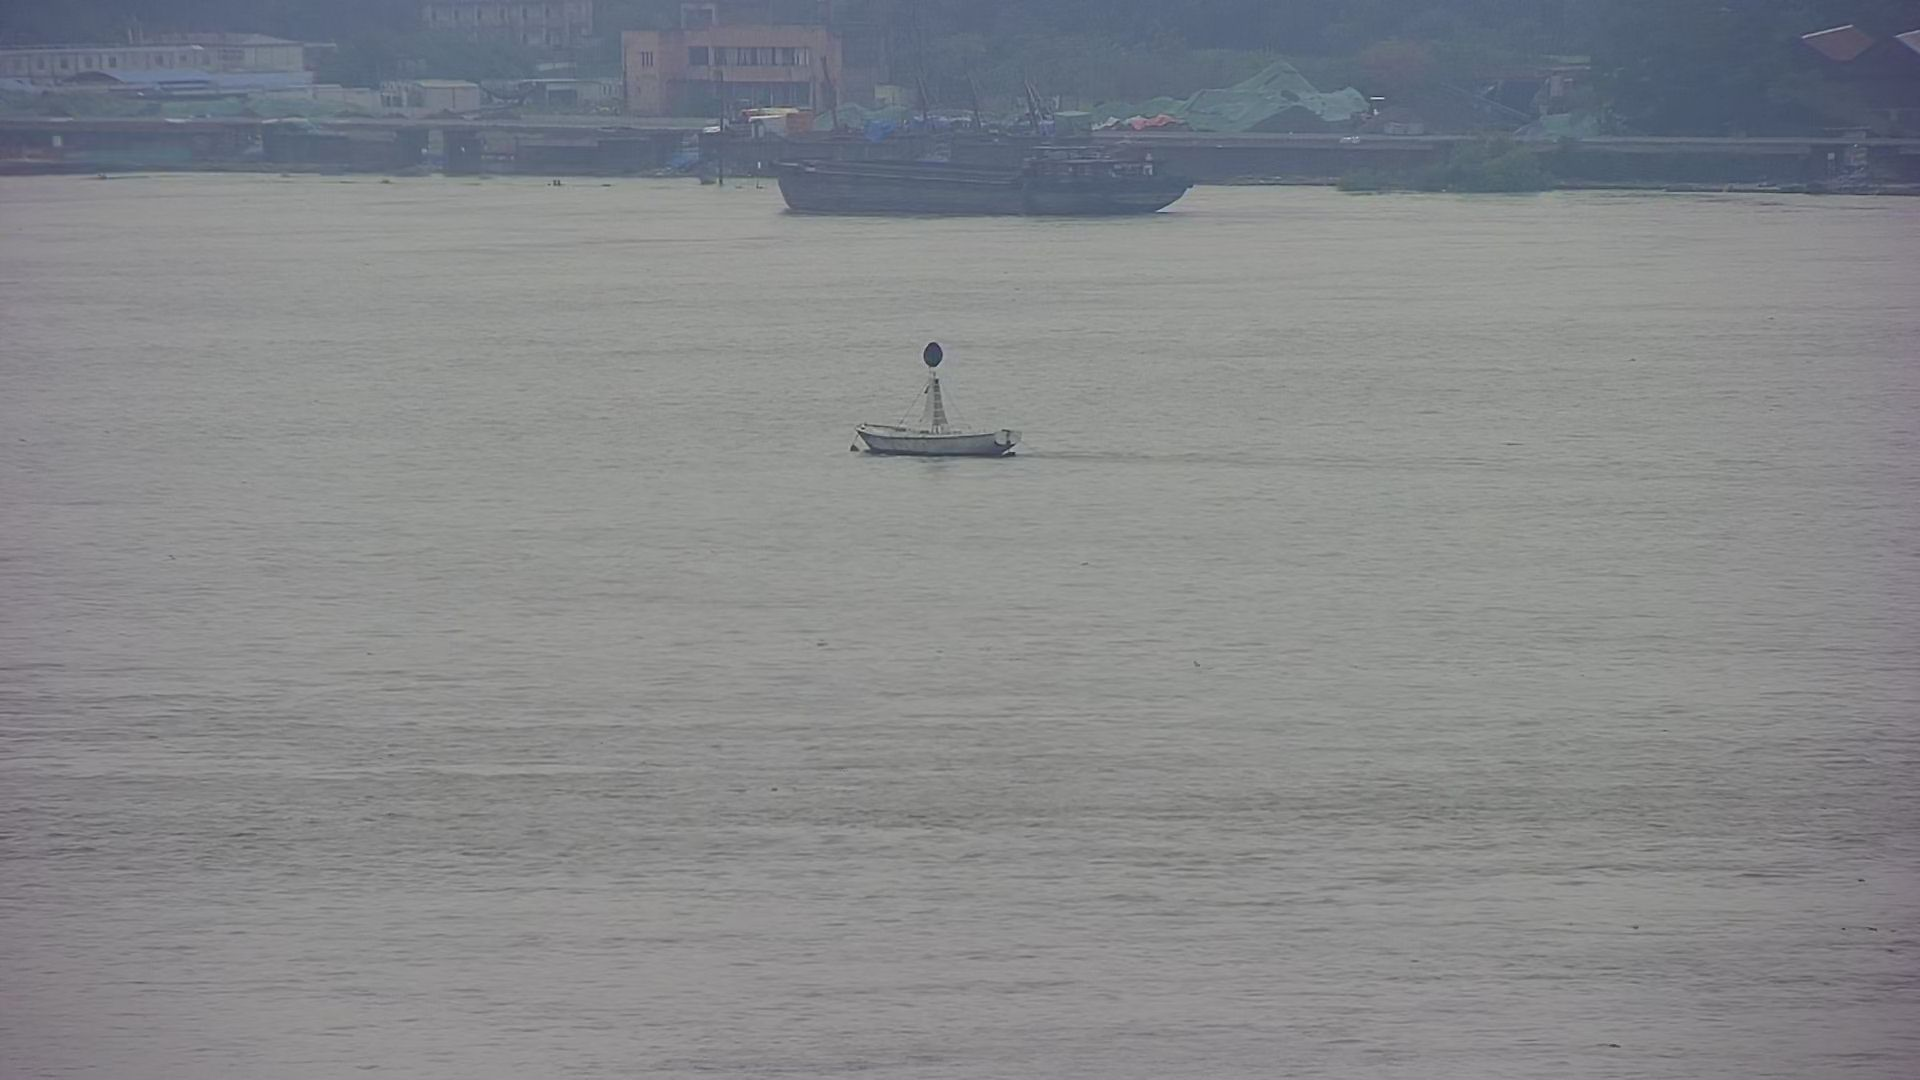boat: (841, 332, 1031, 462)
ship: (781, 133, 1201, 220)
